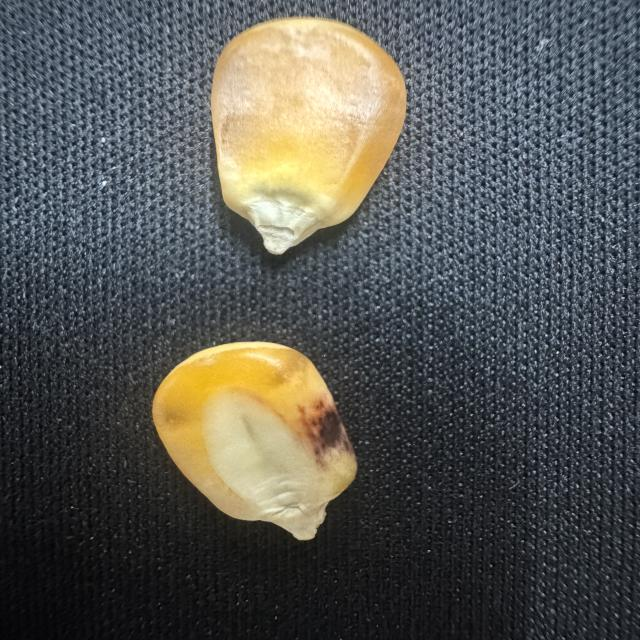Bad-Seed: (146, 334, 362, 548)
Good-Seed: (202, 10, 411, 261)
